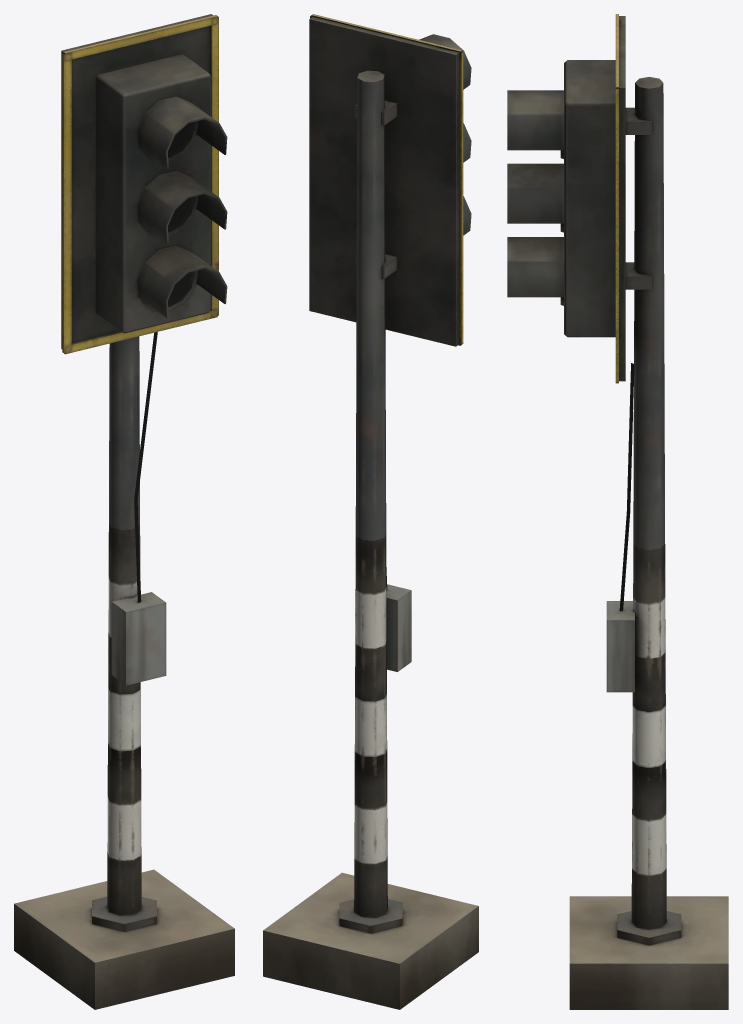
File: traffic_light.glb
3 renders of one model, left to right at view 1: azimuth 30°, elevation 25°; view 2: azimuth 150°, elevation 25°; view 3: azimuth 270°, elevation 25°, orthographic. The views are drawn at different scales.
Parts seen in each view (by area): view 1: body; view 2: body; view 3: body.
Part boxes in pixels (x1,y1,x2,y2): body: (14, 14, 234, 1009); body: (263, 14, 478, 1009); body: (507, 14, 728, 1009).
Size of the model in its own units: 0.62 by 3.6 by 0.78.
4 materials, 1 textured.
